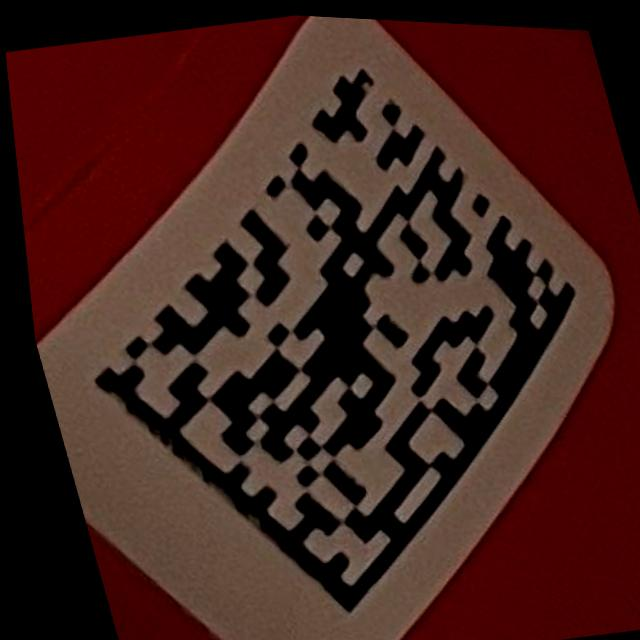QR_CODE: (7, 24, 640, 640)
